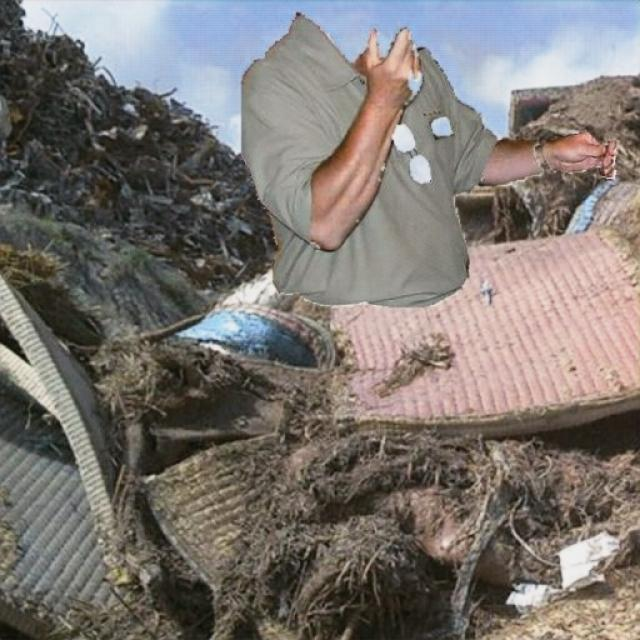Person in Rubble: (241, 12, 615, 306)
